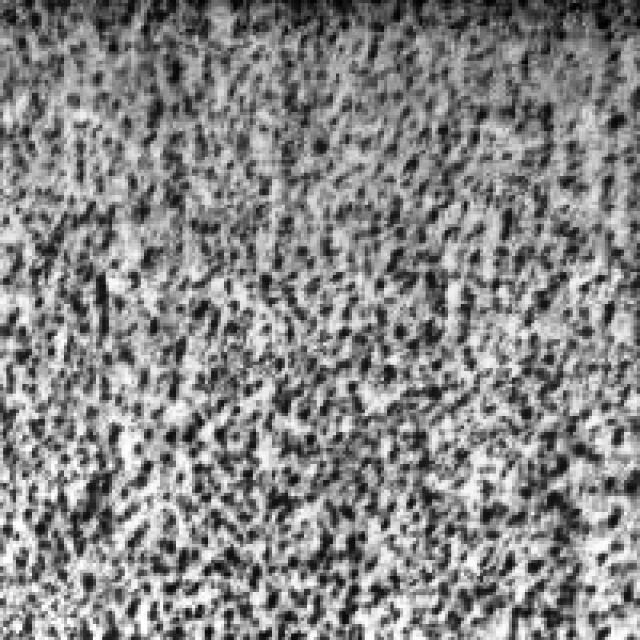Rolled_in_Scale: (3, 0, 621, 621)
